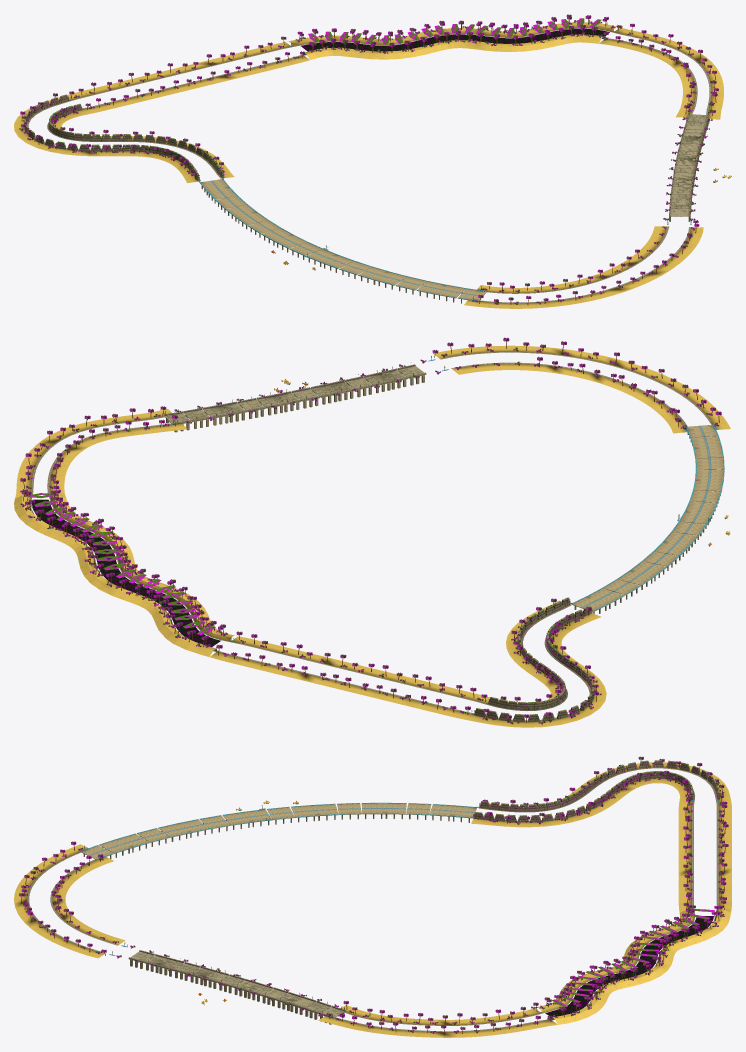
Rendered from painted.glb.
3 views of the same model, one above another, from view 1: azimuth 30°, elevation 25°; view 2: azimuth 150°, elevation 25°; view 3: azimuth 270°, elevation 25° (orthographic). The views are drawn at different scales.
Parts seen in each view (by area): view 1: DI_STATIC_DI_MAT_jungle, DI_STATIC_DI_MAT_concrete, DI_STATIC_DI_MAT_jungle-card, DI_STATIC_DI_MAT_metal; view 2: DI_STATIC_DI_MAT_jungle, DI_STATIC_DI_MAT_concrete, DI_STATIC_DI_MAT_jungle-card, DI_STATIC_DI_MAT_metal; view 3: DI_STATIC_DI_MAT_jungle, DI_STATIC_DI_MAT_concrete, DI_STATIC_DI_MAT_jungle-card, DI_STATIC_DI_MAT_metal.
Boxes of the visible parts, left/top/right/bottom form: DI_STATIC_DI_MAT_jungle: left=14, top=18, right=723, bottom=308; DI_STATIC_DI_MAT_concrete: left=24, top=28, right=711, bottom=303; DI_STATIC_DI_MAT_jungle-card: left=20, top=14, right=718, bottom=304; DI_STATIC_DI_MAT_metal: left=68, top=31, right=708, bottom=300; DI_STATIC_DI_MAT_jungle: left=14, top=341, right=730, bottom=727; DI_STATIC_DI_MAT_concrete: left=30, top=352, right=724, bottom=722; DI_STATIC_DI_MAT_jungle-card: left=20, top=337, right=721, bottom=724; DI_STATIC_DI_MAT_metal: left=162, top=357, right=716, bottom=714; DI_STATIC_DI_MAT_jungle: left=14, top=760, right=731, bottom=1037; DI_STATIC_DI_MAT_concrete: left=27, top=760, right=719, bottom=1031; DI_STATIC_DI_MAT_jungle-card: left=19, top=756, right=728, bottom=1033; DI_STATIC_DI_MAT_metal: left=84, top=796, right=718, bottom=1020.
Size of the model in its own units: 782 by 39.99 by 809.
6 materials, 6 textured.
